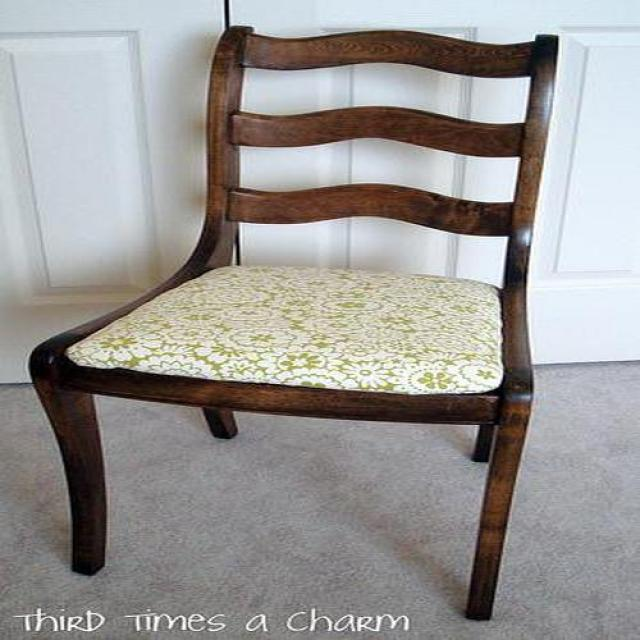chair: (29, 31, 559, 622)
